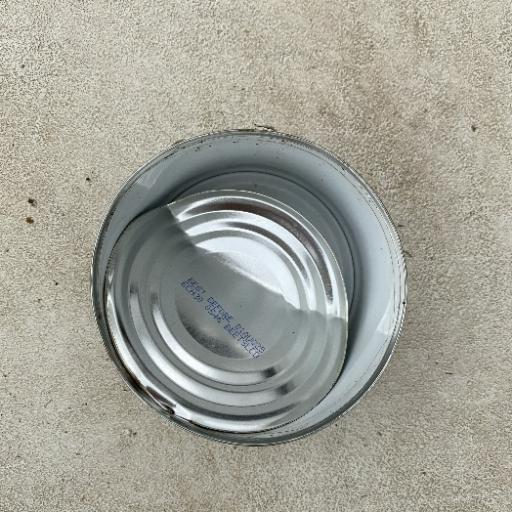Metal: (89, 126, 408, 448)
